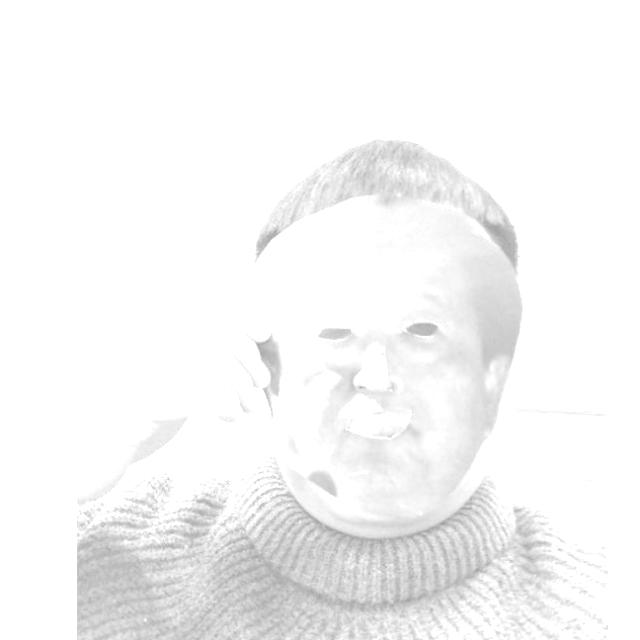fake: (237, 190, 525, 520)
